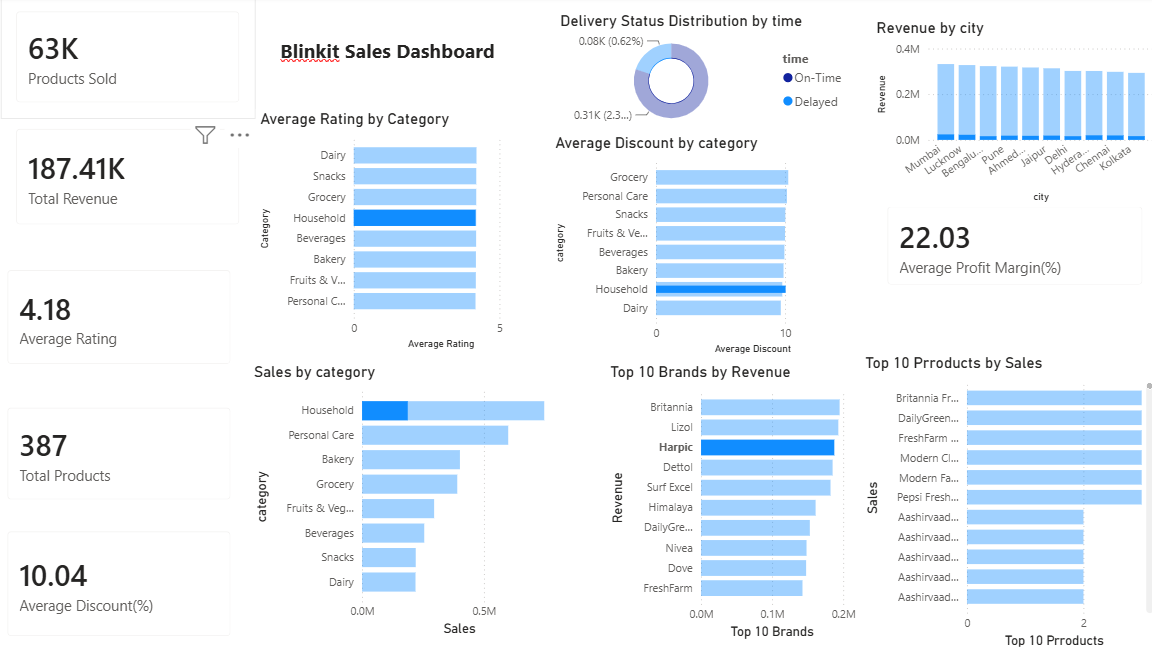

This screenshot's page, from the dashboard's own definition file:
{"tool":"powerbi","page":{"name":"Page 1","canvas":[1280,720],"ordinal":0},"visuals":[{"type":"cardVisual","fields":{"Data":["Sum(blinkit_dataset.final_price)"]},"box":[9.6,129,279.9,140],"z":0},{"type":"cardVisual","fields":{"Data":["Sum(blinkit_dataset.sold_quantity)"]},"box":[9.6,0,279.9,134.5],"z":1},{"type":"cardVisual","fields":{"Data":["Avg(blinkit_dataset.rating)"]},"box":[0,284,279.9,137.2],"z":2},{"type":"cardVisual","fields":{"Data":["Count(blinkit_dataset.product_id)"]},"box":[0,435,279.9,135.8],"z":3},{"type":"cardVisual","fields":{"Data":["Avg(blinkit_dataset.discount_pct)"]},"box":[0,570.8,279.9,149.6],"z":4},{"type":"cardVisual","fields":{"Data":["Avg(blinkit_dataset.profit_margin_pct)"]},"box":[966,214.1,314.2,120.8],"z":5},{"type":"clusteredBarChart","fields":{"Category":["blinkit_dataset.category"],"Y":["Sum(blinkit_dataset.final_price)"]},"box":[282.7,402.1,356.8,306],"z":6},{"type":"clusteredBarChart","fields":{"Y":["Count(blinkit_dataset.final_price)"],"Category":["blinkit_dataset.product_name"]},"box":[953.7,392.5,326.6,328],"z":7},{"type":"clusteredColumnChart","fields":{"Category":["blinkit_dataset.city"],"Y":["Sum(blinkit_dataset.final_price)"]},"box":[966,24.7,314.2,207.2],"z":8},{"type":"clusteredBarChart","fields":{"Category":["blinkit_dataset.brand"],"Y":["Sum(blinkit_dataset.final_price)"]},"box":[673.8,402.1,279.9,308.7],"z":9},{"type":"donutChart","fields":{"Category":["blinkit_dataset.delivery_status"],"Y":["CountNonNull(blinkit_dataset.product_id)"]},"box":[618.9,16.5,328,134.5],"z":10},{"type":"clusteredBarChart","fields":{"Category":["blinkit_dataset.category"],"Y":["Avg(blinkit_dataset.rating)"]},"box":[289.5,124.9,308.7,267.6],"z":11},{"type":"clusteredBarChart","fields":{"Category":["blinkit_dataset.category"],"Y":["Avg(blinkit_dataset.discount_pct)"]},"box":[613.4,150.9,340.3,247],"z":12},{"type":"textbox","box":[311.5,39.8,286.8,43.9],"z":13}]}

Visuals, with their boxes in screenshot pixels (x1, y1, x2, y2), scaled from the page's 1280x720 canvas onto the 1152x647 screenshot:
cardVisual - Sum(blinkit_dataset.final_price): l=9, t=116, r=261, b=242
cardVisual - Sum(blinkit_dataset.sold_quantity): l=9, t=0, r=261, b=121
cardVisual - Avg(blinkit_dataset.rating): l=0, t=255, r=252, b=378
cardVisual - Count(blinkit_dataset.product_id): l=0, t=391, r=252, b=513
cardVisual - Avg(blinkit_dataset.discount_pct): l=0, t=513, r=252, b=646
cardVisual - Avg(blinkit_dataset.profit_margin_pct): l=869, t=192, r=1151, b=301
clusteredBarChart - blinkit_dataset.category x Sum(blinkit_dataset.final_price): l=254, t=361, r=576, b=636
clusteredBarChart - Count(blinkit_dataset.final_price) x blinkit_dataset.product_name: l=858, t=353, r=1151, b=646
clusteredColumnChart - blinkit_dataset.city x Sum(blinkit_dataset.final_price): l=869, t=22, r=1151, b=208
clusteredBarChart - blinkit_dataset.brand x Sum(blinkit_dataset.final_price): l=606, t=361, r=858, b=639
donutChart - blinkit_dataset.delivery_status x CountNonNull(blinkit_dataset.product_id): l=557, t=15, r=852, b=136
clusteredBarChart - blinkit_dataset.category x Avg(blinkit_dataset.rating): l=261, t=112, r=538, b=353
clusteredBarChart - blinkit_dataset.category x Avg(blinkit_dataset.discount_pct): l=552, t=136, r=858, b=358
textbox: l=280, t=36, r=538, b=75
